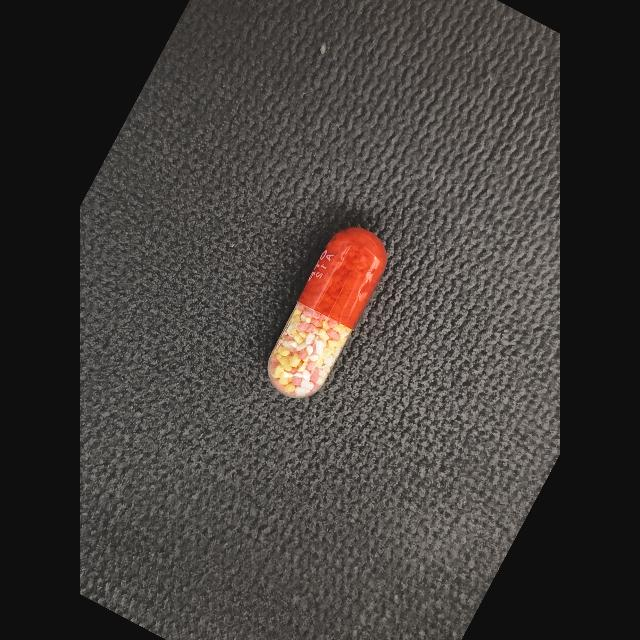Intact Capsule: (267, 227, 387, 398)
